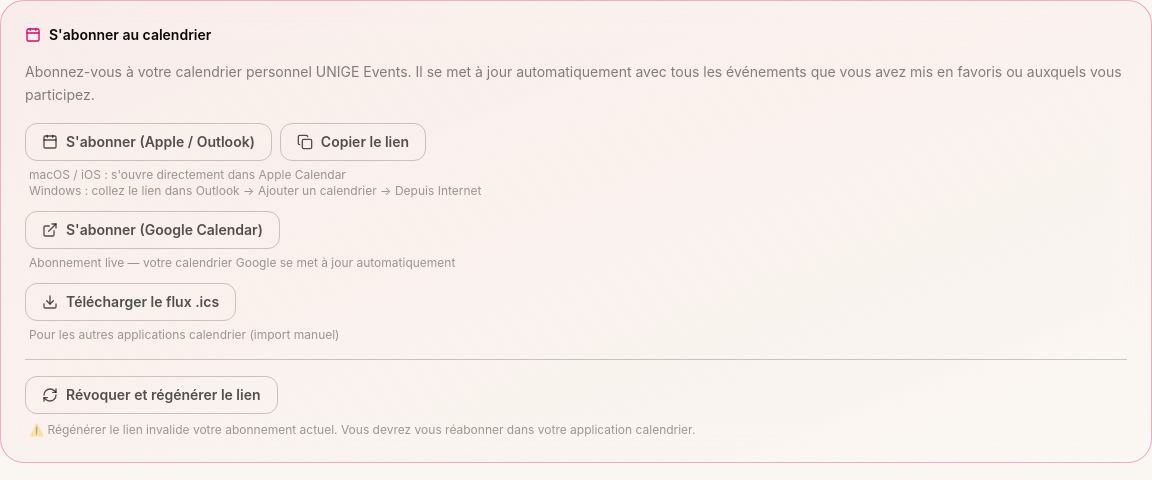
Scenario: CalendarSubscribeButton › shows a regeneration error when regenerateCalendarToken rejects
Click the button "Révoquer et régénérer le lien".
click(151, 394)  # box left=25, top=376, right=278, bottom=414
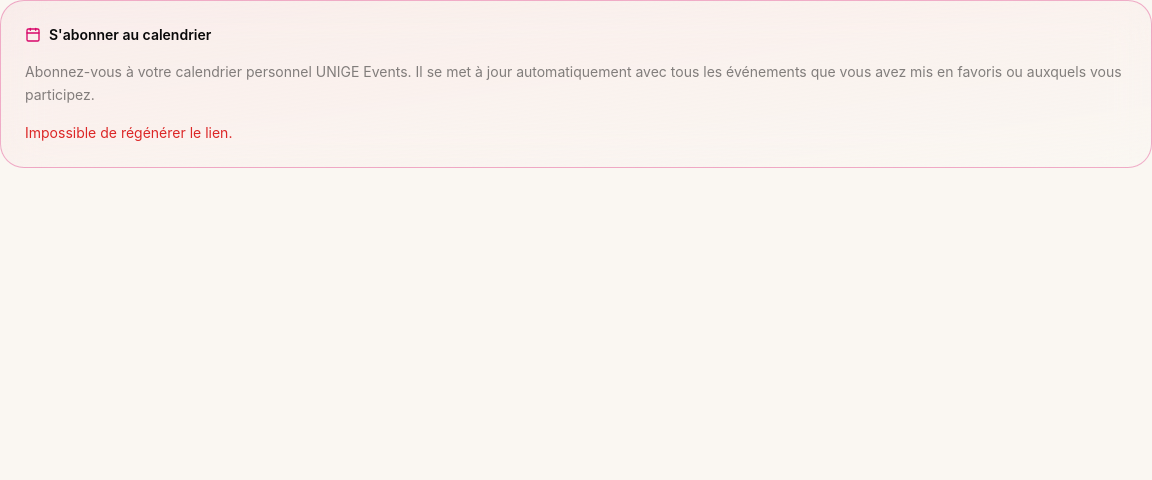
Check: the text "Impossible de régénérer le lien." is shown, box left=25, top=124, right=232, bottom=140
